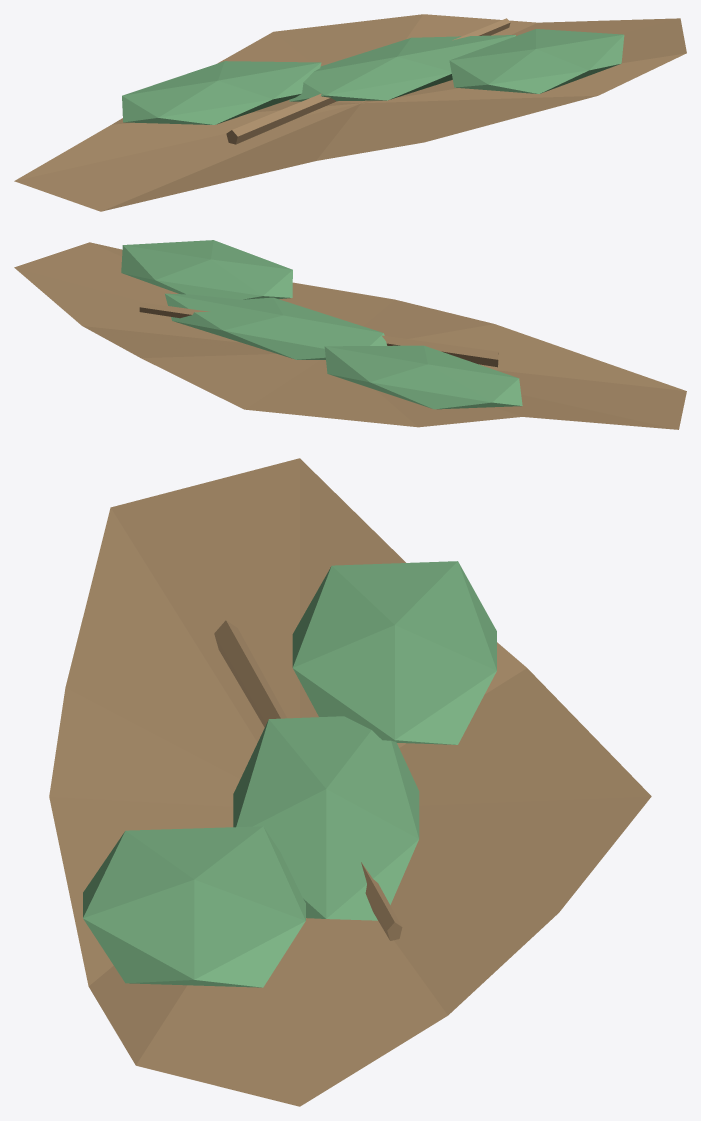
File: myb_forest_leaf_moss_mat_c.fbx
3 views of the same model, one above another, from view 1: azimuth 30°, elevation 25°; view 2: azimuth 150°, elevation 25°; view 3: azimuth 270°, elevation 25° (orthographic). The views are drawn at different scales.
Visible parts, largest first — view 1: myb_forest_leaf_moss_mat_c; view 2: myb_forest_leaf_moss_mat_c; view 3: myb_forest_leaf_moss_mat_c.
Boxes of the visible parts, x1=… form: myb_forest_leaf_moss_mat_c: x1=14, y1=14, x2=686, y2=211; myb_forest_leaf_moss_mat_c: x1=14, y1=240, x2=686, y2=429; myb_forest_leaf_moss_mat_c: x1=49, y1=458, x2=651, y2=1106.
Bounding box in the file's own units: 2.27 × 0.122 × 0.8909.
